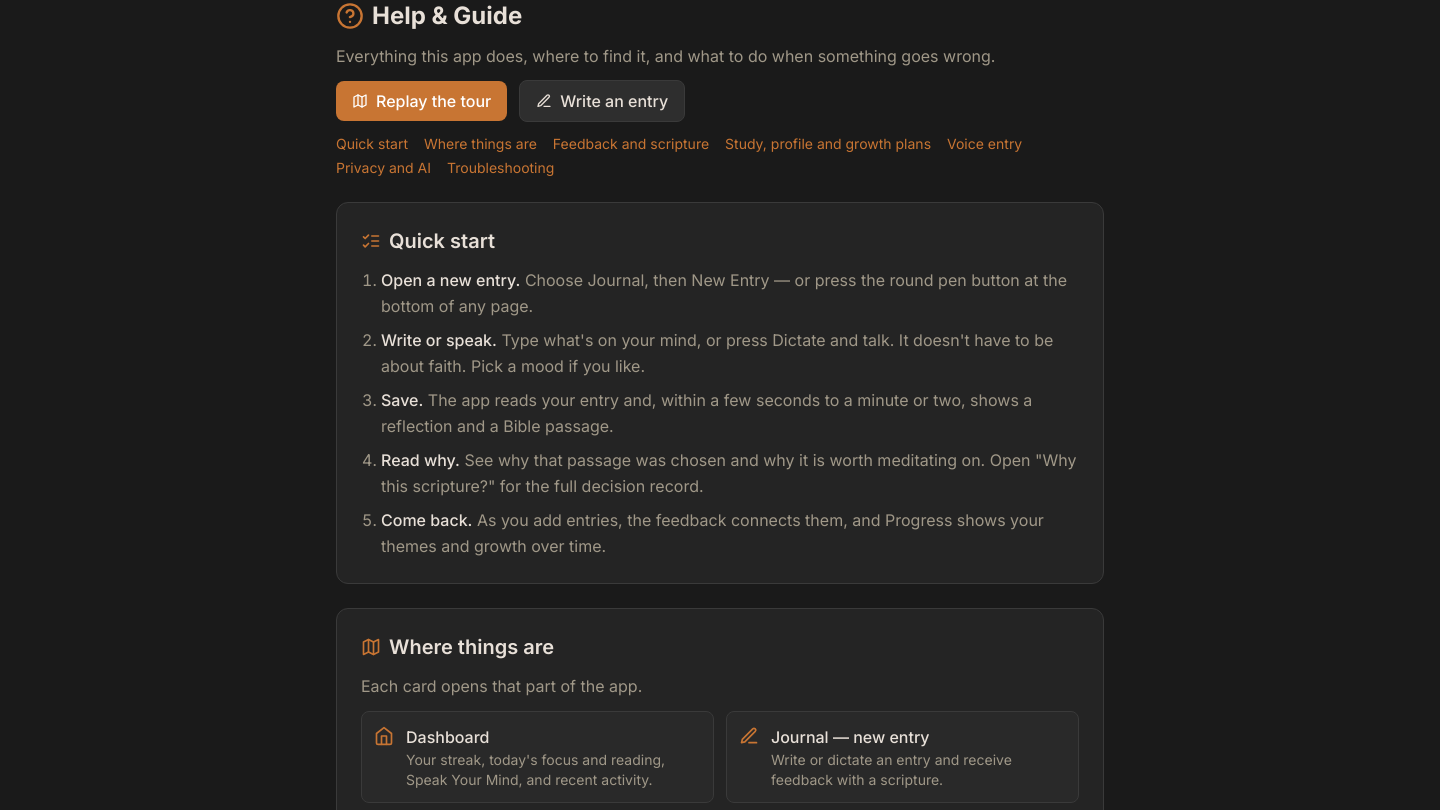
Test: HelpPage › "Replay the tour" goes home and starts the tour
Click the button "Replay the tour" at (422, 101), box [336, 81, 507, 121]
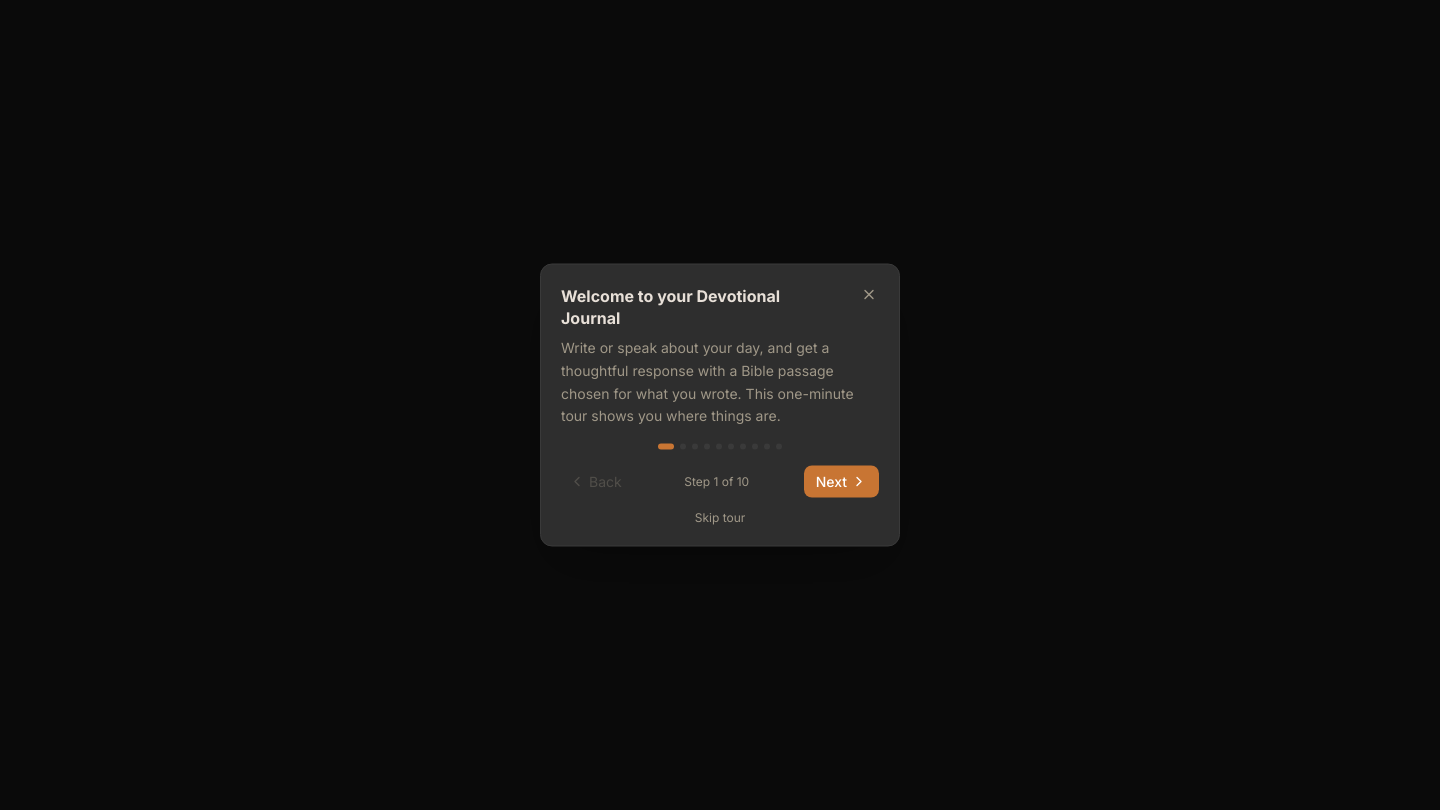
Expected: the dialog "Welcome to your Devotional Journal" is shown, [540, 264, 900, 546]
